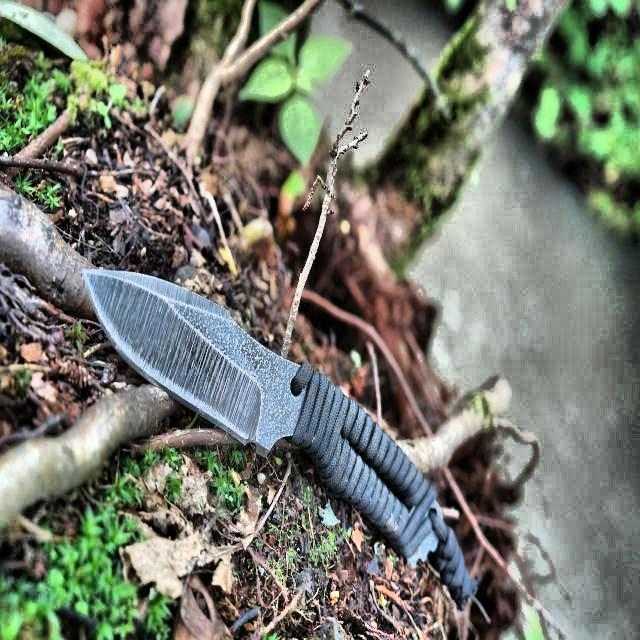knife: (83, 256, 451, 576)
